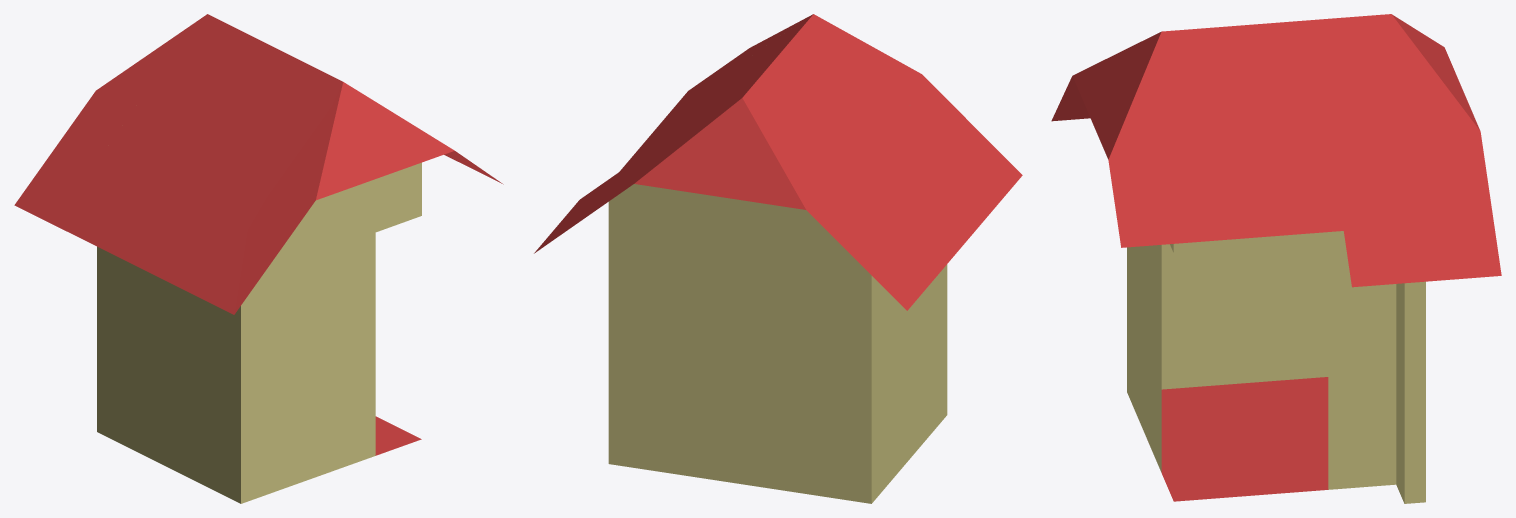
The picture shows the model from 3 angles, left to right: view 1: azimuth 30°, elevation 25°; view 2: azimuth 150°, elevation 25°; view 3: azimuth 270°, elevation 25°; orthographic projection. The views are drawn at different scales.
Parts seen in each view (by area): view 1: group_5, group_3, group_4, group_6; view 2: group_5, group_3, group_4; view 3: group_3, group_5, group_4, group_6.
Part boxes in pixels (x1=…): group_5: x1=97, y1=162, x2=421, y2=503; group_3: x1=15, y1=14, x2=502, y2=314; group_4: x1=14, y1=37, x2=501, y2=314; group_6: x1=375, y1=416, x2=421, y2=455; group_5: x1=608, y1=184, x2=947, y2=503; group_3: x1=534, y1=14, x2=1022, y2=310; group_4: x1=535, y1=18, x2=1021, y2=310; group_3: x1=1051, y1=14, x2=1501, y2=287; group_5: x1=1127, y1=231, x2=1425, y2=503; group_4: x1=1052, y1=25, x2=1501, y2=286; group_6: x1=1161, y1=377, x2=1328, y2=501.
Size of the model in its own units: 14.11 by 13.82 by 14.37.
